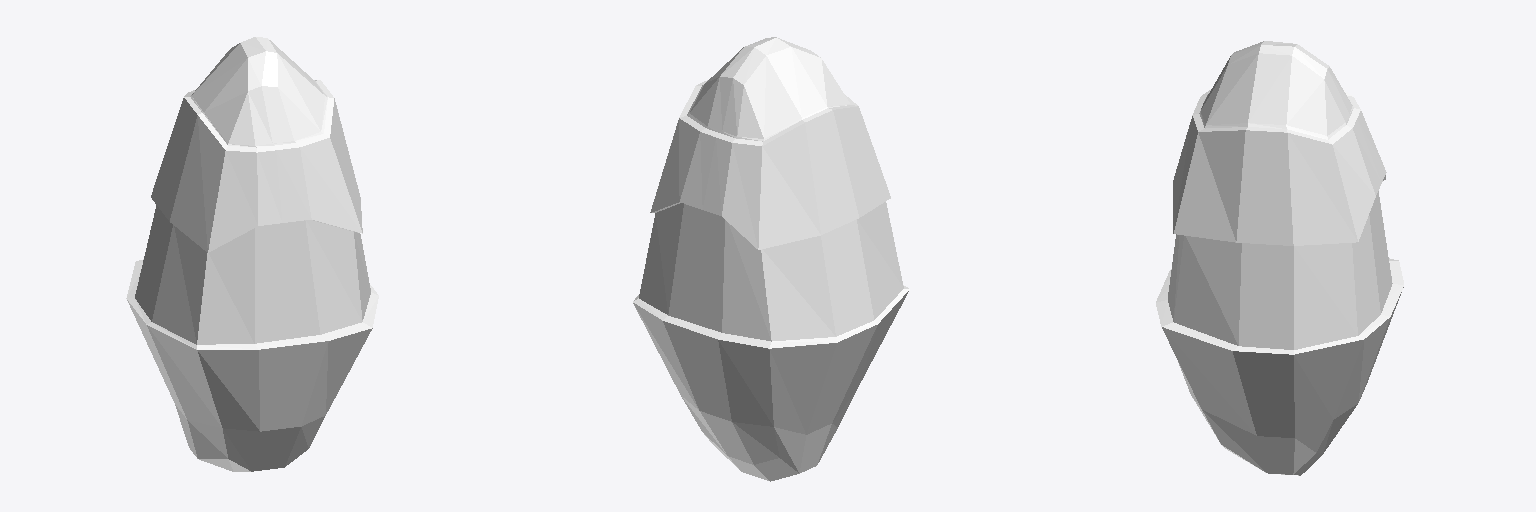
File: ice_cream_bar.obj
The picture shows the model from 3 angles: view 1: azimuth 30°, elevation 25°; view 2: azimuth 150°, elevation 25°; view 3: azimuth 270°, elevation 25°; orthographic projection.
Parts seen in each view (by area): view 1: polySurface75_polySurface75; view 2: polySurface75_polySurface75; view 3: polySurface75_polySurface75.
Boxes of the visible parts, <box> form: polySurface75_polySurface75: <box>126,37,378,471</box>; polySurface75_polySurface75: <box>633,37,909,481</box>; polySurface75_polySurface75: <box>1156,41,1403,475</box>.
Size of the model in its own units: 3.3 by 6.11 by 3.24.